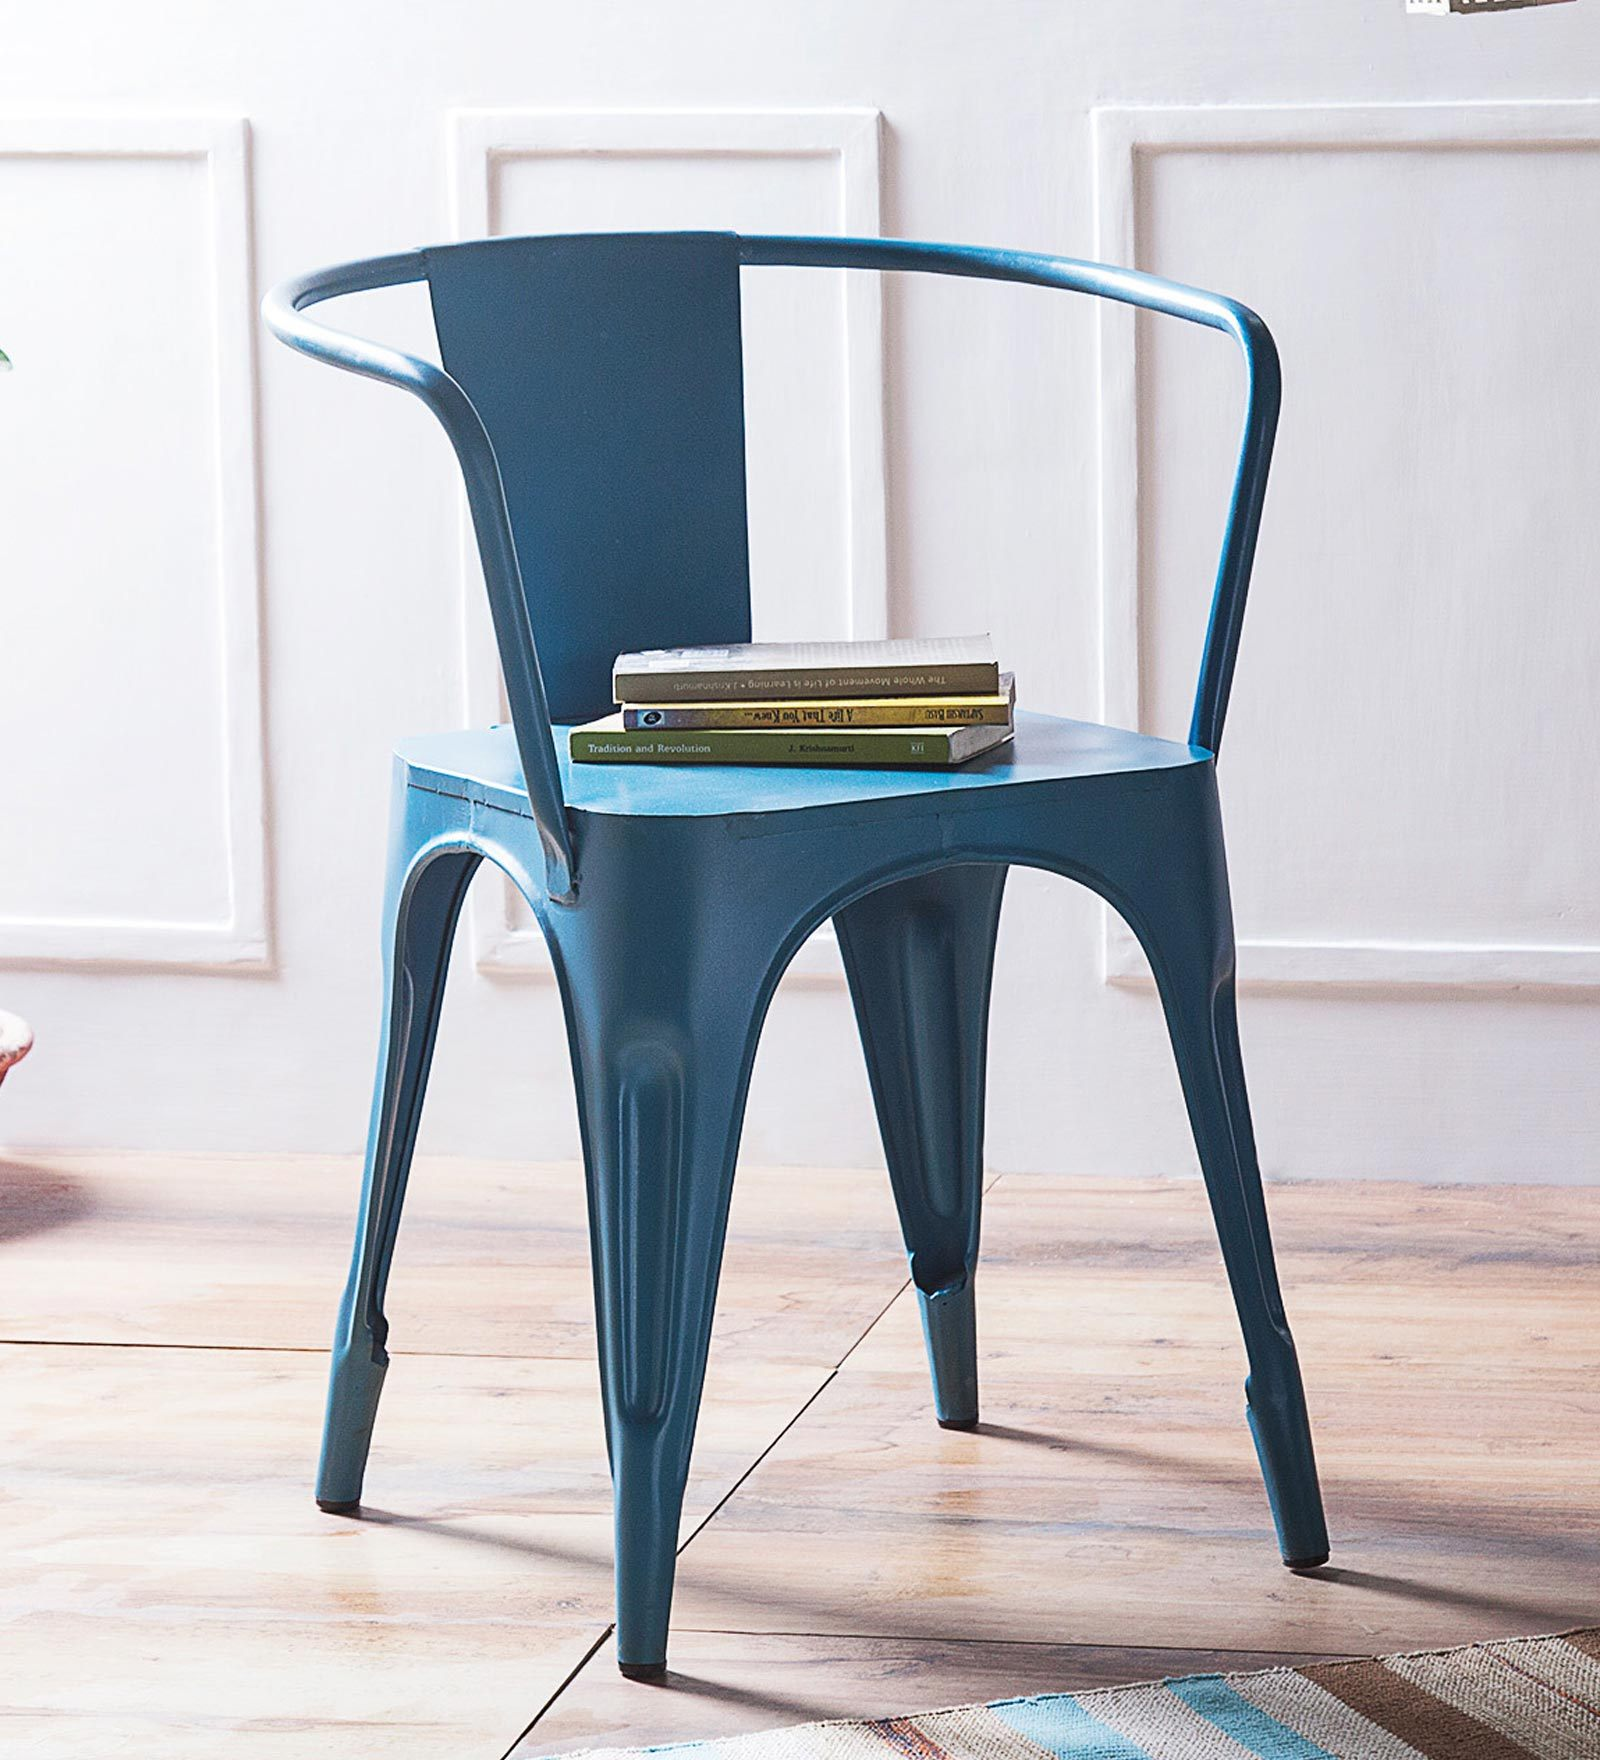Dotiki Metal Chair in Sky Blue Color by Bohemiana: (225, 193, 1372, 1670)
